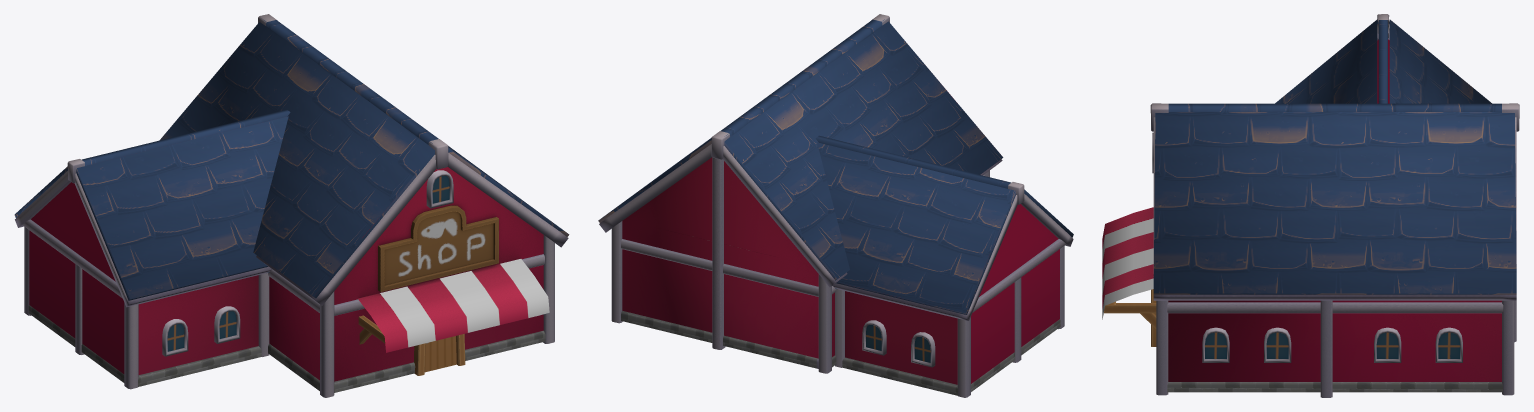
Rendered from shop_asset.fbx.
3 views of the same model, side by side, from view 1: azimuth 30°, elevation 25°; view 2: azimuth 150°, elevation 25°; view 3: azimuth 270°, elevation 25° (orthographic). The views are drawn at different scales.
Parts seen in each view (by area): view 1: shop, asset_aquarium9.001, asset_aquarium8.004, asset_aquarium8, asset_aquarium9.002, asset_aquarium5, door, asset_aquarium2.003, asset_aquarium8.008, asset_aquarium2, asset_aquarium2.001, asset_aquarium5.001 (+6 smaller); view 2: shop, asset_aquarium9.001, asset_aquarium8, asset_aquarium8.005, asset_aquarium8.004, asset_aquarium9.002, asset_aquarium2.004, asset_aquarium8.002, asset_aquarium5, asset_aquarium2.003, asset_aquarium8.008, asset_aquarium2.005 (+2 smaller); view 3: shop, asset_aquarium8.003, asset_aquarium2.002, asset_aquarium9.001, asset_aquarium8, asset_aquarium5.003, asset_aquarium5.002, asset_aquarium8.006, wood4.001, asset_aquarium14.
Part boxes in pixels (x1,y1,x2,y2): shop: [14, 18, 569, 381]; asset_aquarium9.001: [256, 153, 568, 305]; asset_aquarium8.004: [24, 227, 269, 389]; asset_aquarium8: [320, 235, 554, 397]; asset_aquarium9.002: [15, 171, 271, 307]; asset_aquarium5: [162, 306, 240, 356]; door: [414, 334, 465, 375]; asset_aquarium2.003: [138, 346, 261, 386]; asset_aquarium8.008: [23, 219, 122, 298]; asset_aquarium2: [334, 362, 415, 392]; asset_aquarium2.001: [465, 330, 545, 360]; asset_aquarium5.001: [426, 170, 453, 208]; shop: [598, 19, 1073, 384]; asset_aquarium9.001: [599, 144, 1002, 287]; asset_aquarium8: [611, 170, 989, 373]; asset_aquarium8.005: [712, 157, 725, 349]; asset_aquarium8.004: [835, 246, 1064, 397]; asset_aquarium9.002: [832, 194, 1073, 320]; asset_aquarium2.004: [621, 311, 818, 368]; asset_aquarium8.002: [621, 239, 818, 296]; asset_aquarium5: [862, 320, 935, 367]; asset_aquarium2.003: [842, 357, 957, 395]; asset_aquarium8.008: [972, 239, 1065, 312]; asset_aquarium2.005: [971, 319, 1060, 391]; shop: [1102, 19, 1516, 381]; asset_aquarium8.003: [1167, 302, 1503, 313]; asset_aquarium2.002: [1167, 382, 1502, 392]; asset_aquarium9.001: [1153, 117, 1516, 300]; asset_aquarium8: [1156, 300, 1514, 395]; asset_aquarium5.003: [1374, 327, 1462, 362]; asset_aquarium5.002: [1202, 327, 1291, 362]; asset_aquarium8.006: [1320, 300, 1332, 397]; wood4.001: [1104, 303, 1156, 313]; asset_aquarium14: [1150, 103, 1519, 131].
Bounding box in the file's own units: 1631 × 915 × 1484.
Materials: 3 (3 with a texture image).
